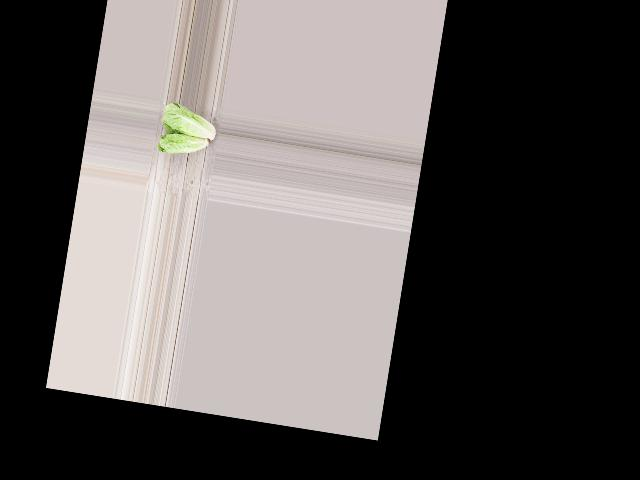lettuce: (158, 99, 222, 141)
